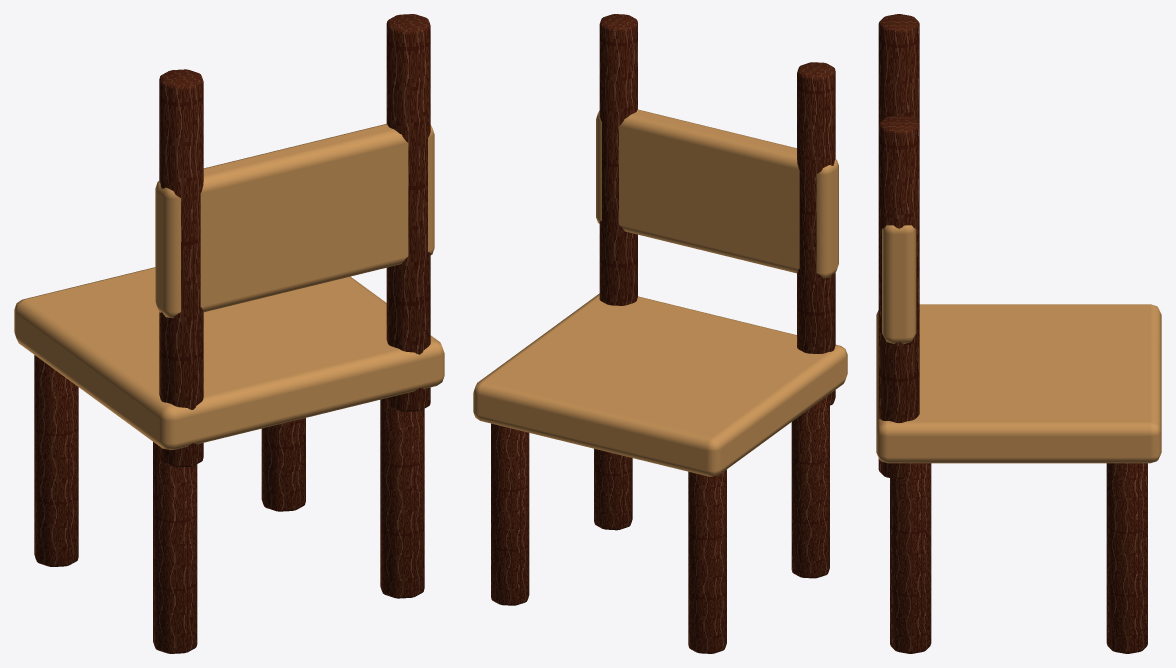
File: chair.glb
The picture shows the model from 3 angles, left to right: view 1: azimuth 30°, elevation 25°; view 2: azimuth 150°, elevation 25°; view 3: azimuth 270°, elevation 25°; orthographic projection. The views are drawn at different scales.
Visible parts, largest first — view 1: chair_wood_light, chair_wood; view 2: chair_wood_light, chair_wood; view 3: chair_wood_light, chair_wood.
Boxes of the visible parts, box(x1,y1,x2,y2) form: chair_wood_light: box(14, 124, 444, 449); chair_wood: box(34, 14, 430, 653); chair_wood_light: box(473, 109, 847, 476); chair_wood: box(491, 14, 835, 653); chair_wood_light: box(876, 225, 1161, 463); chair_wood: box(878, 14, 1147, 653).
Size of the model in its own units: 1.05 by 2.03 by 1.
Materials: 2 (1 with a texture image).
